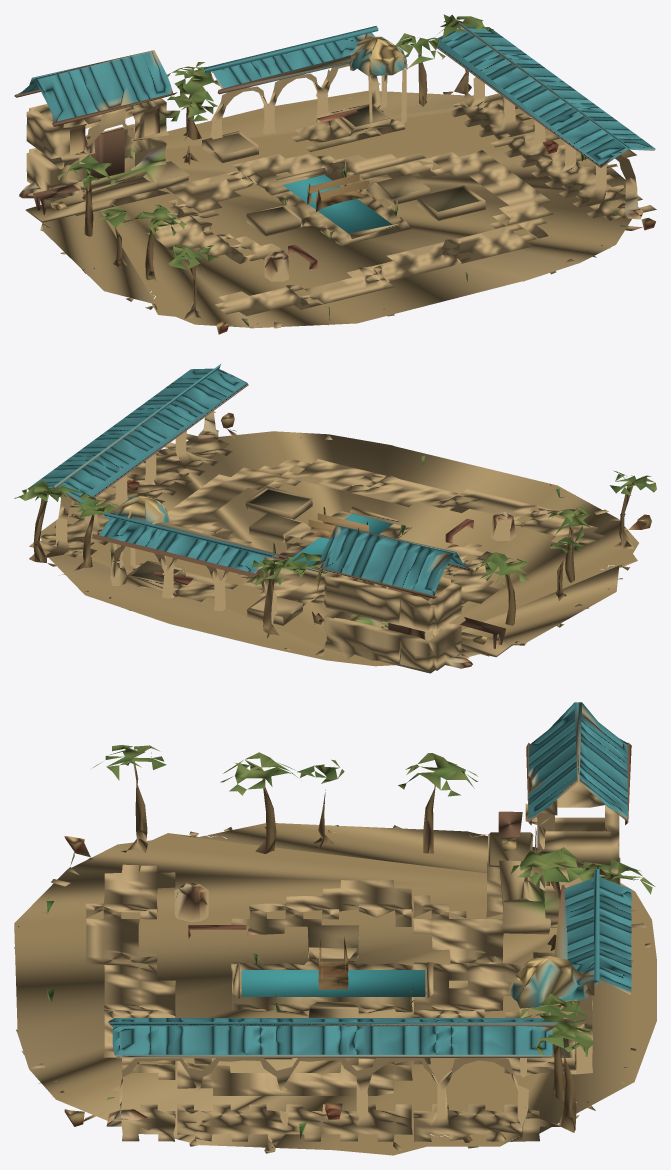
Rendered from sahrun.far.glb.
The picture shows the model from 3 angles, top to bottom: view 1: azimuth 30°, elevation 25°; view 2: azimuth 150°, elevation 25°; view 3: azimuth 270°, elevation 25°; orthographic projection. The views are drawn at different scales.
Visible parts, largest first — view 1: merged-masonry-botany, merged-timber-ceramic, merged-opaque-water; view 2: merged-masonry-botany, merged-timber-ceramic, merged-opaque-water; view 3: merged-masonry-botany, merged-timber-ceramic, merged-opaque-water.
Part boxes in pixels (x1,y1,x2,y2): merged-masonry-botany: [19, 14, 656, 334]; merged-timber-ceramic: [14, 21, 655, 214]; merged-opaque-water: [282, 175, 392, 234]; merged-masonry-botany: [14, 411, 656, 673]; merged-timber-ceramic: [28, 364, 505, 648]; merged-opaque-water: [289, 513, 393, 573]; merged-masonry-botany: [14, 745, 656, 1155]; merged-timber-ceramic: [108, 702, 631, 1058]; merged-opaque-water: [241, 970, 425, 996].
Size of the model in its own units: 24.44 by 5.2 by 19.95.
